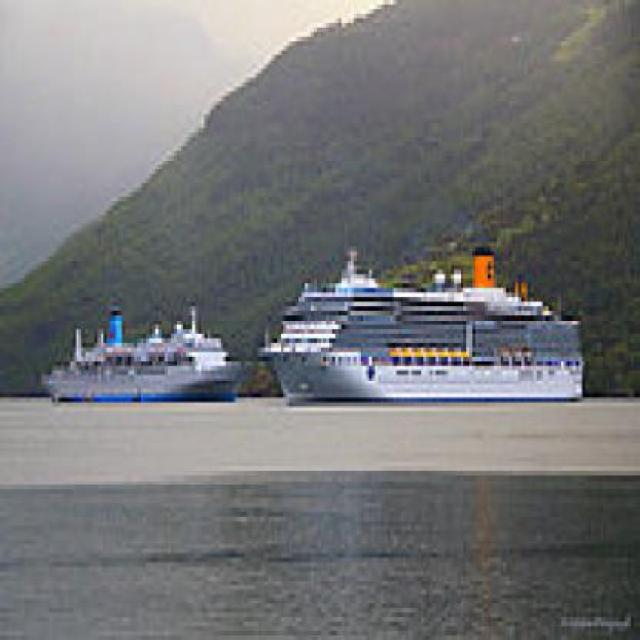cruise: (248, 234, 605, 431), (31, 294, 251, 417)
